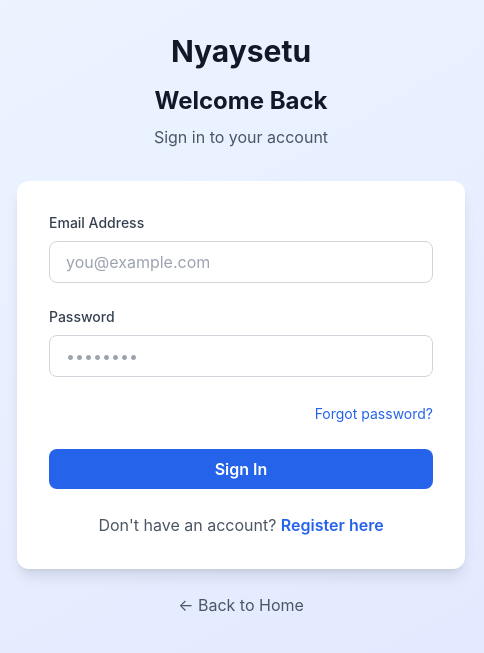
Test: LoginPage › should display validation error for short password
Type "short" into the password field with placeholder "••••••••" at (241, 356), box [49,335,433,377]
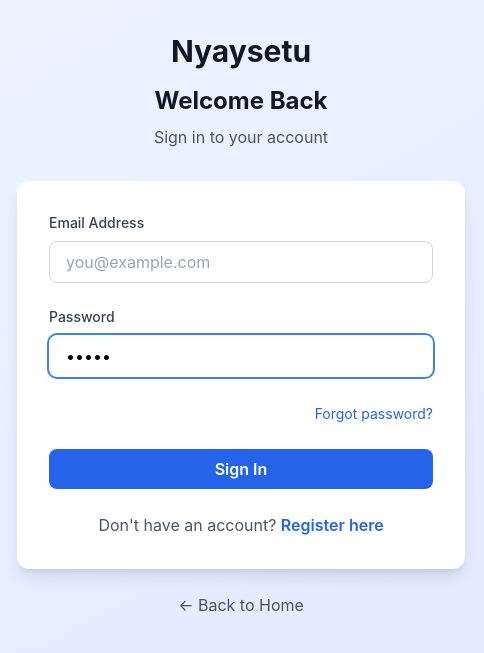
Click the button "Sign In" at (241, 469), box [49,449,433,489]
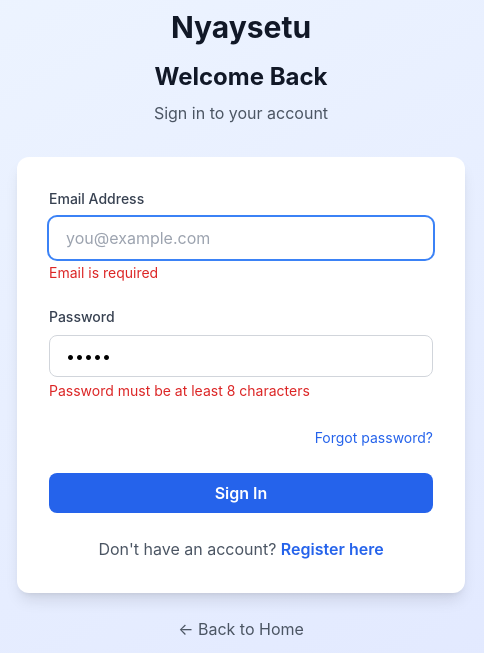
Now the text "Password must be at least 8 characters" is shown, box [49,382,310,399]
